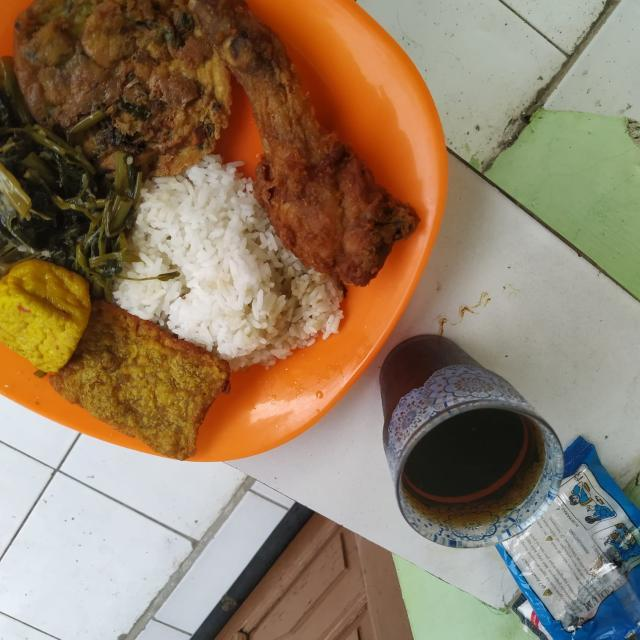ayam_goreng: (190, 74, 403, 318)
nasi_putih: (106, 178, 316, 374)
telur_ayam_dadar: (24, 0, 243, 164)
